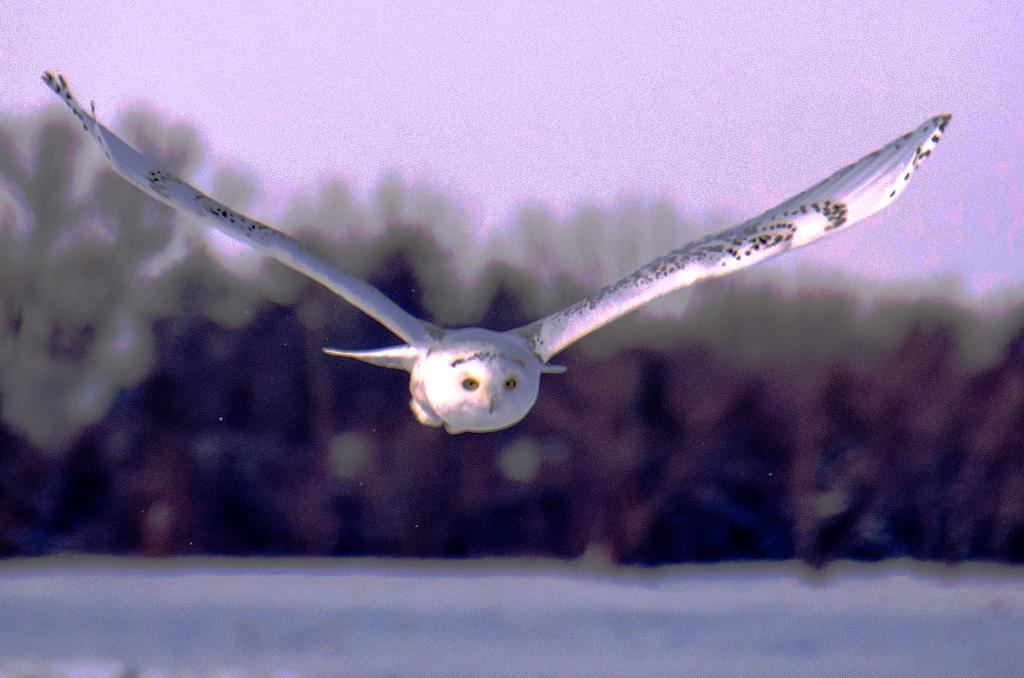Owl: (40, 73, 956, 438)
